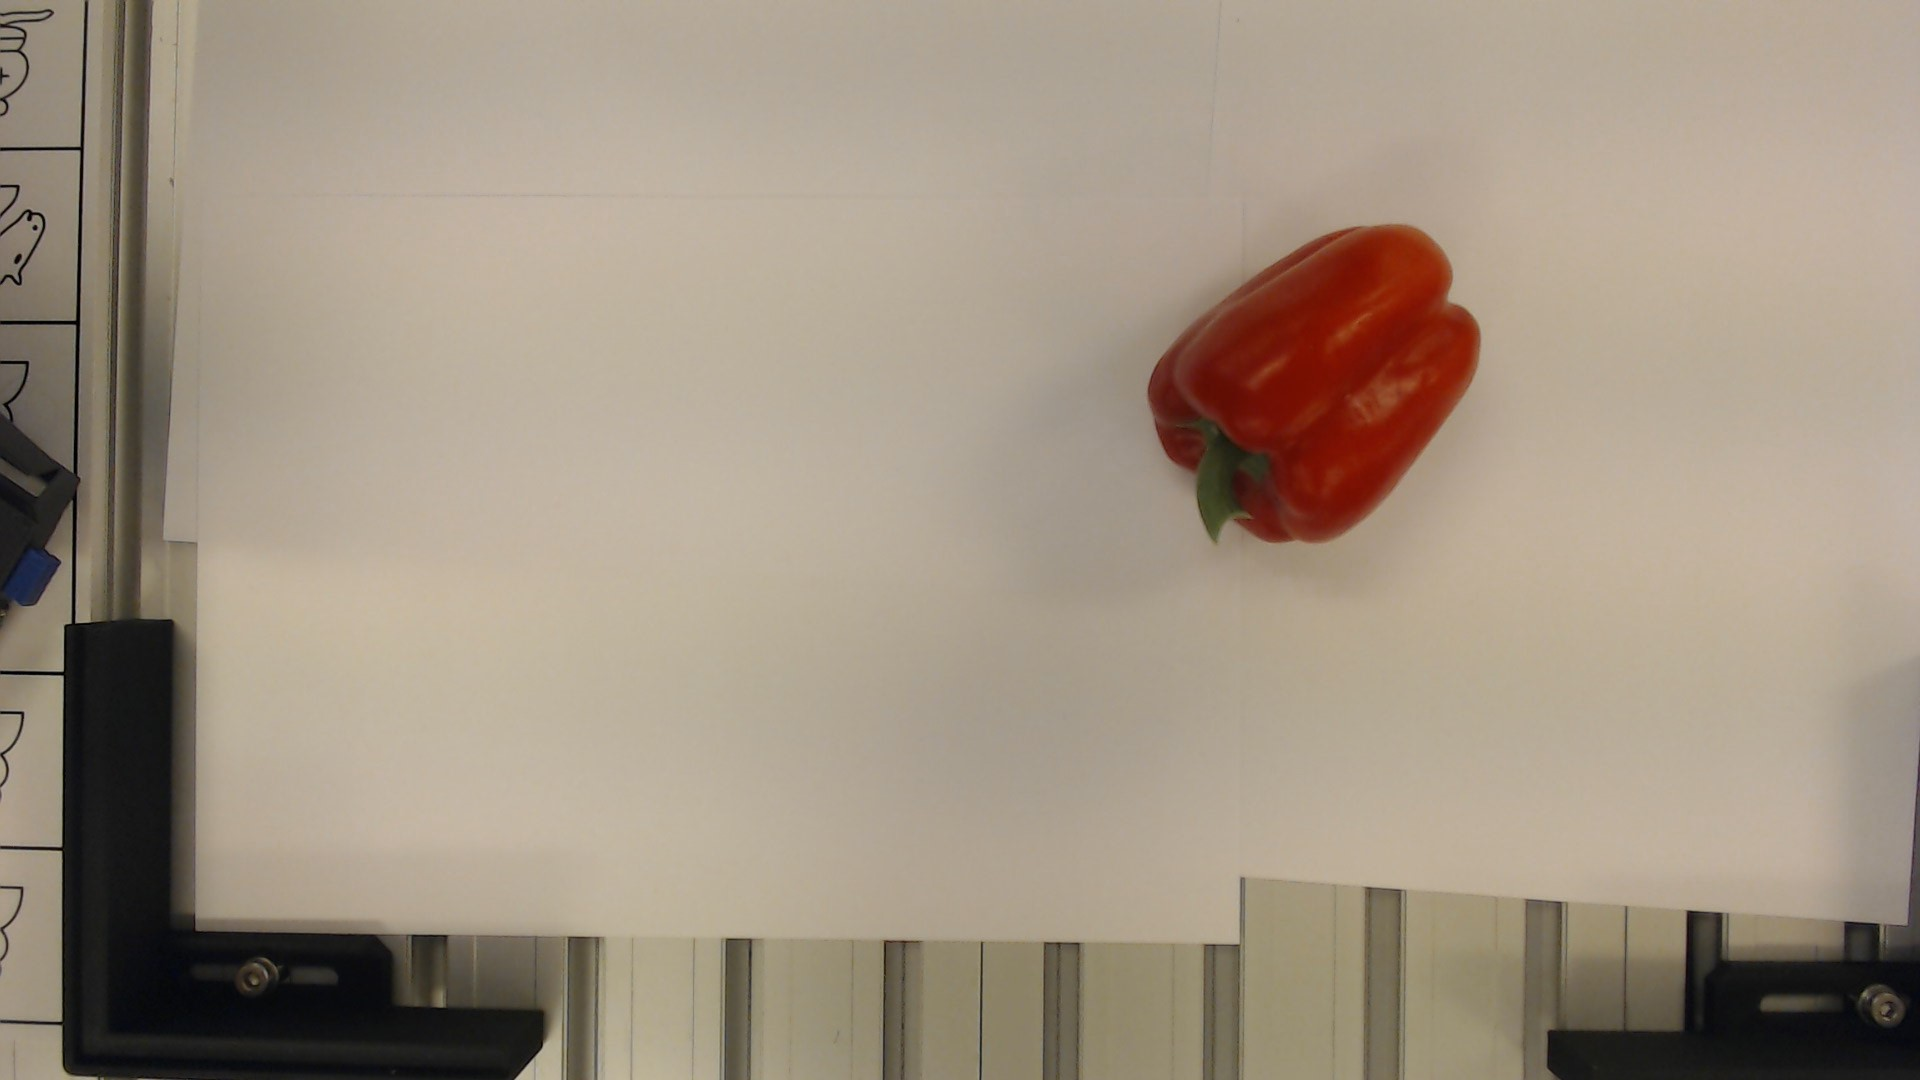Red Bell Pepper: (1134, 215, 1490, 545)
